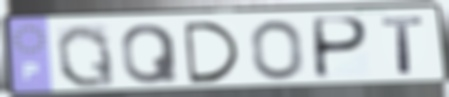D: (180, 20, 245, 85)
O: (248, 18, 307, 82)
P: (312, 16, 372, 82)
Q: (54, 23, 119, 90), (119, 22, 181, 87)
T: (378, 15, 428, 77)
